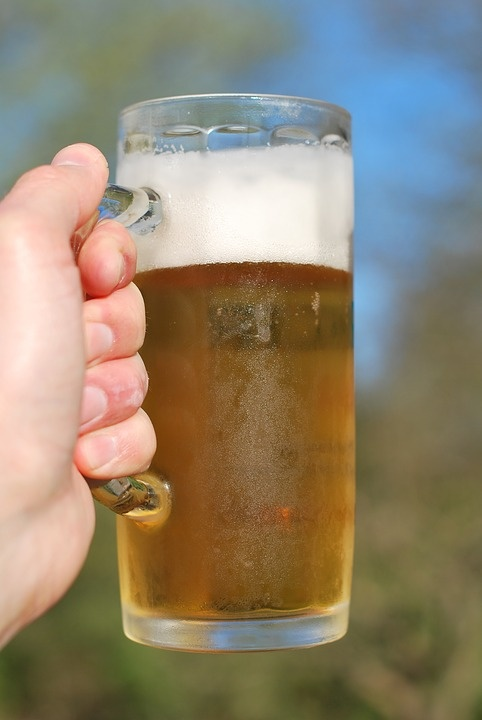glassBeer: (108, 91, 356, 644)
